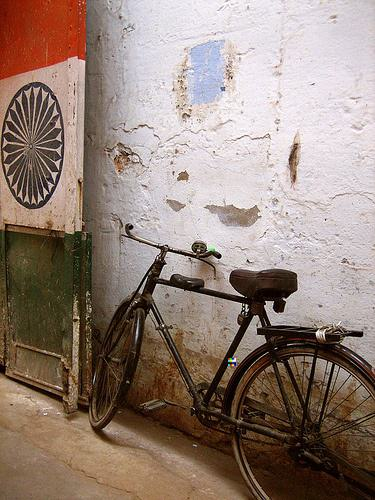car: (89, 224, 375, 500)
